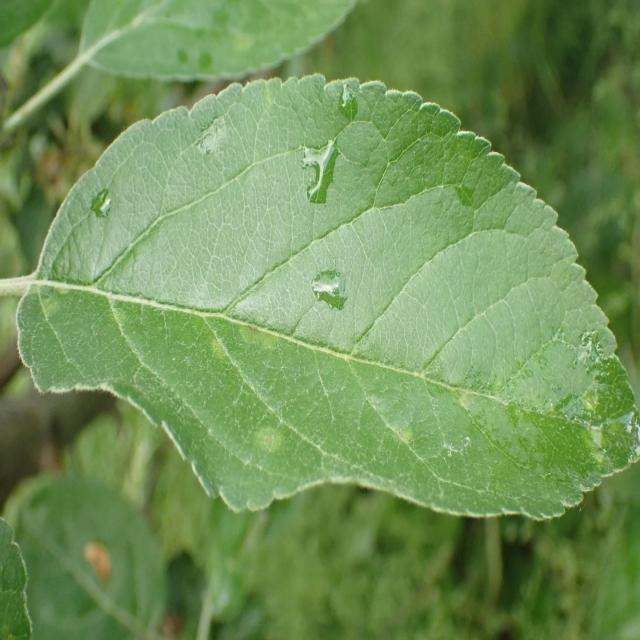scab: (33, 194, 624, 506)
